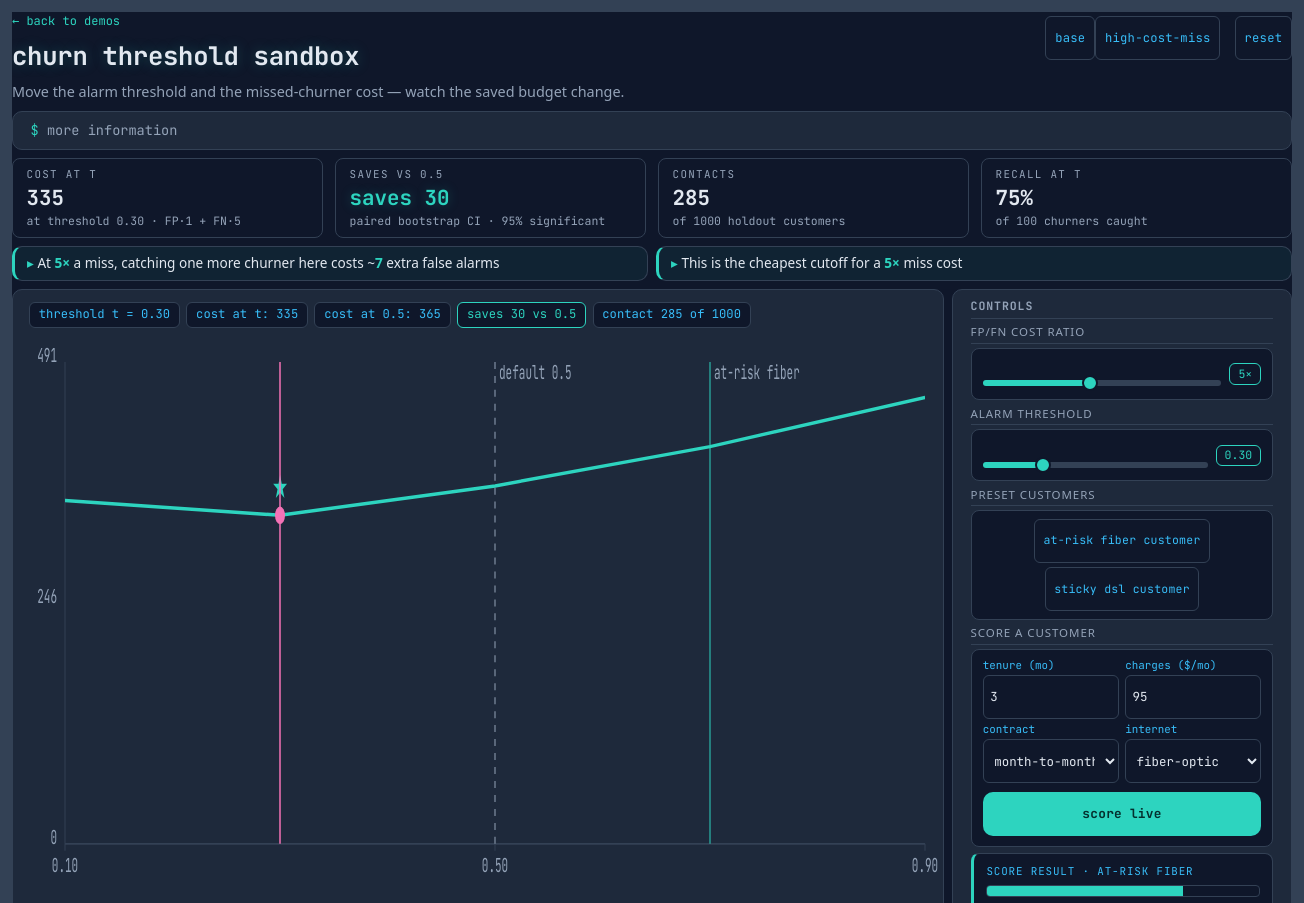
Test: ChurnSandbox › flips the cost math when the FN slider moves
Expected: the text "cost at t: 335" is shown, [186,302,308,328]
Set the slider labelled "FP/FN cost ratio" to "1" at (991, 374), box [983,352,1221,396]
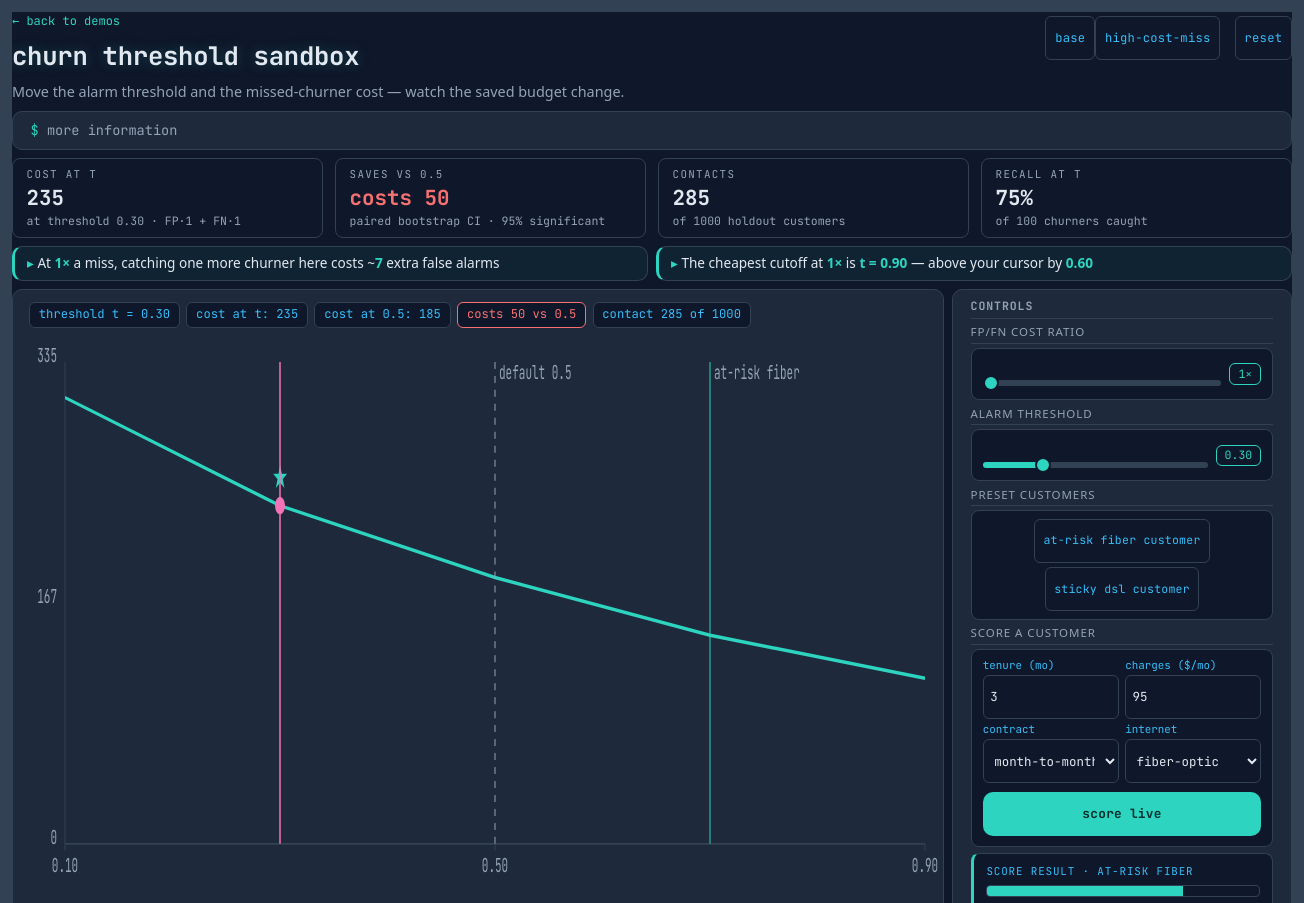
Expected: the text "cost at t: 235" is shown, [186,302,308,328]
Expected: the text "cost at 0.5: 185" is shown, [314,302,451,328]
Expected: the text "costs 50 vs 0.5" is shown, [457,302,586,328]
